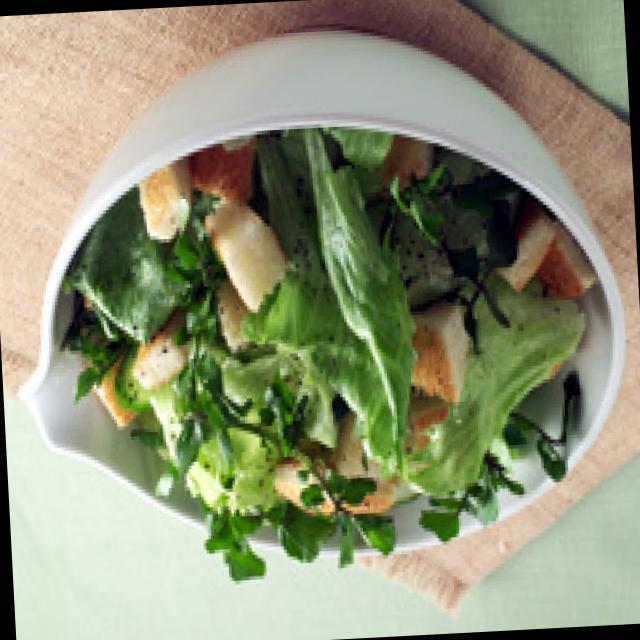Green Salad: (75, 154, 610, 532)
